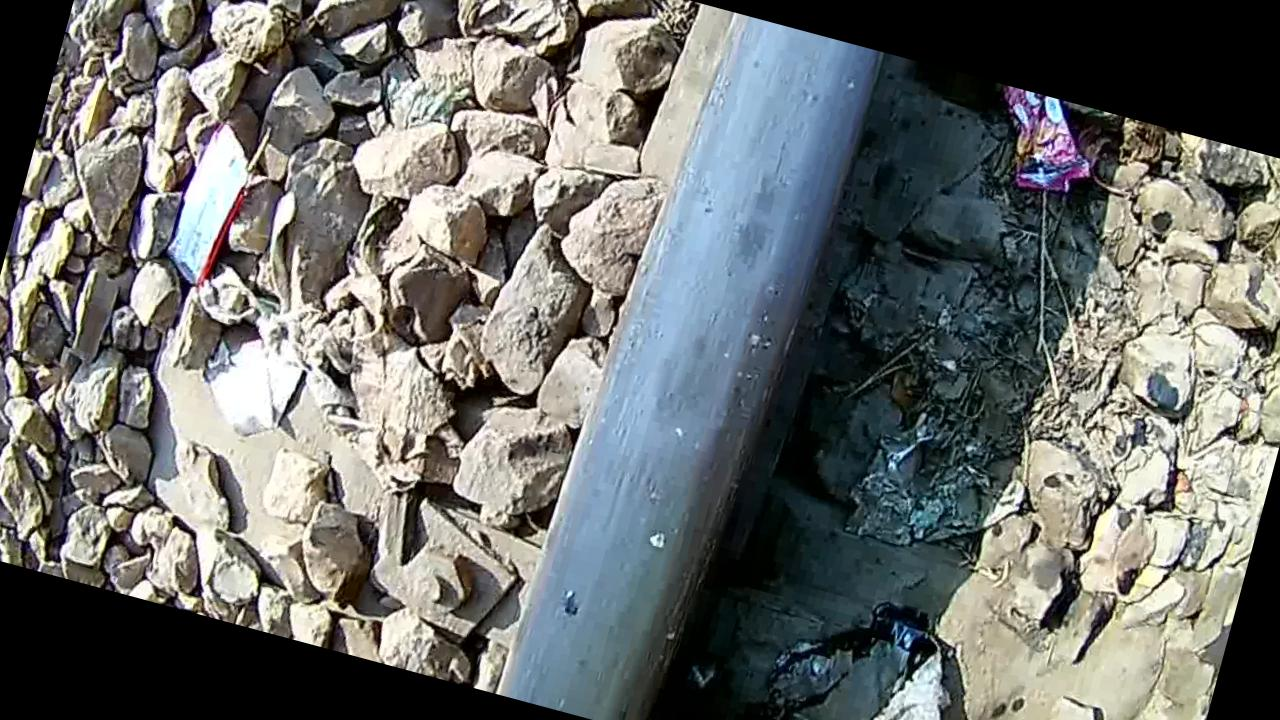bolt_missing: (591, 134, 855, 502)
